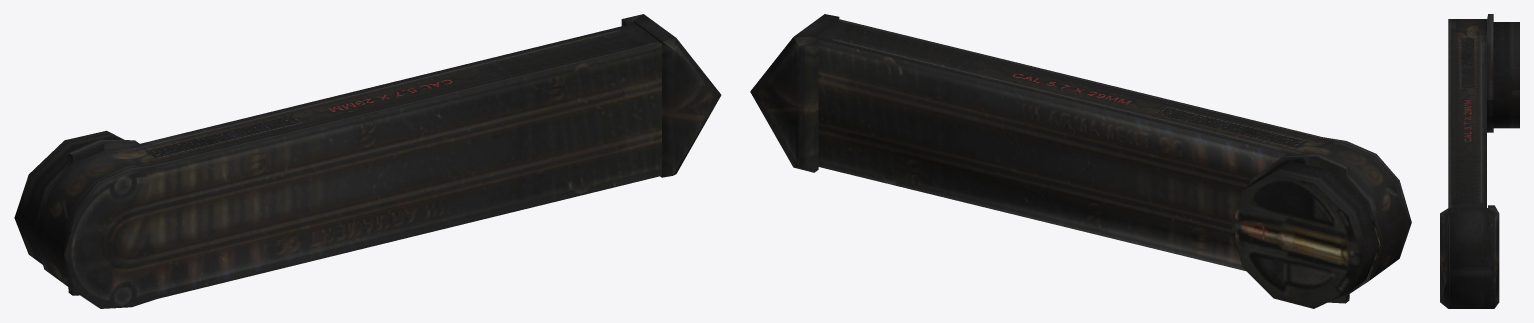
File: t6_attach_mag_pdw57_world_LOD0.obj
The picture shows the model from 3 angles, left to right: view 1: azimuth 30°, elevation 25°; view 2: azimuth 150°, elevation 25°; view 3: azimuth 270°, elevation 25°; orthographic projection. The views are drawn at different scales.
Visible parts, largest first — view 1: mtl_t6_wpn_smg_pdw57_camo1; view 2: mtl_t6_wpn_smg_pdw57_camo1; view 3: mtl_t6_wpn_smg_pdw57_camo1.
Boxes of the visible parts, left/top/right/bottom form: mtl_t6_wpn_smg_pdw57_camo1: left=14, top=14, right=721, bottom=308; mtl_t6_wpn_smg_pdw57_camo1: left=750, top=14, right=1411, bottom=308; mtl_t6_wpn_smg_pdw57_camo1: left=1440, top=14, right=1519, bottom=308.
Size of the model in its own units: 24.44 by 5.38 by 3.65.
